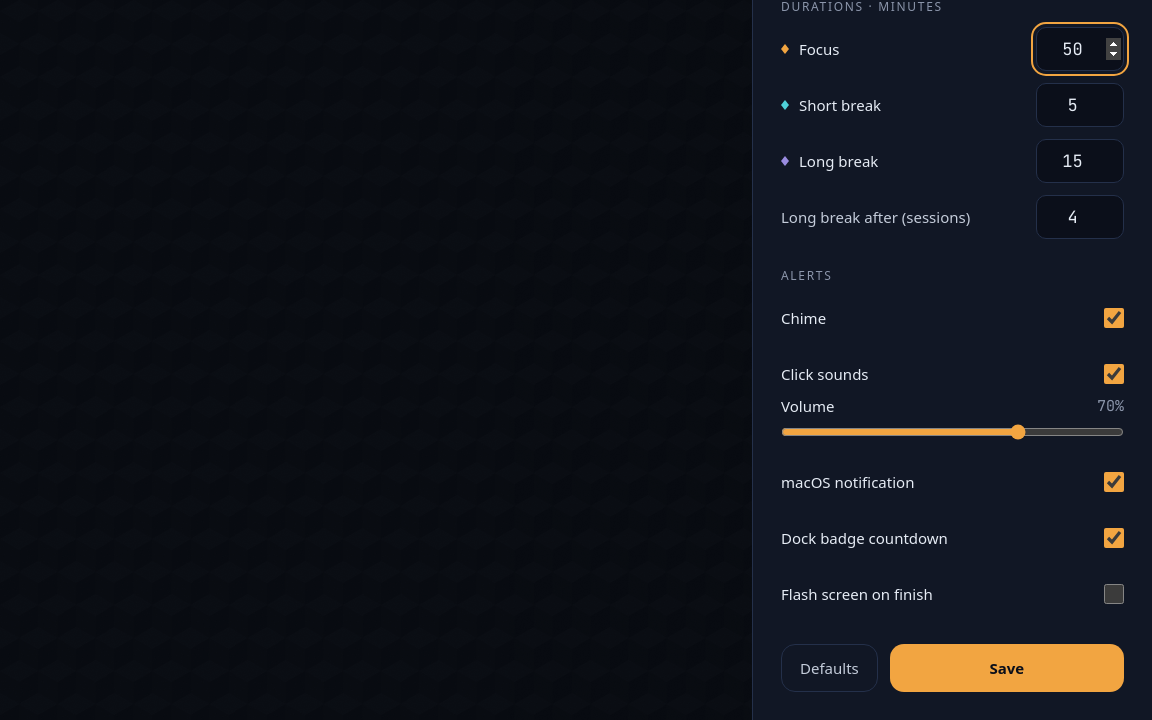
Scenario: SettingsPanel › AC-4.5 Defaults fills the form without saving
(page scrolled)
Click the button "Defaults" at (829, 668), box [781, 644, 878, 692]
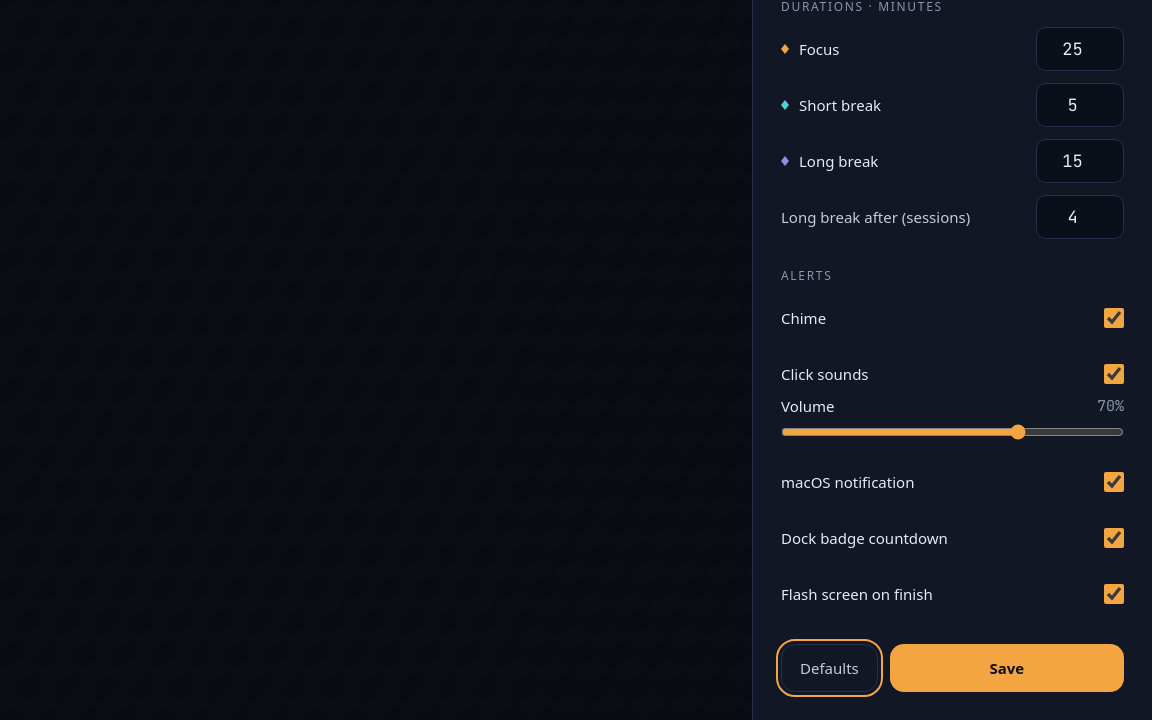
Check: the number field labelled "Focus" holds "25", box [1036, 27, 1124, 71]
Check: the checkbox labelled "Flash screen on finish" is checked, box [1104, 584, 1124, 604]
